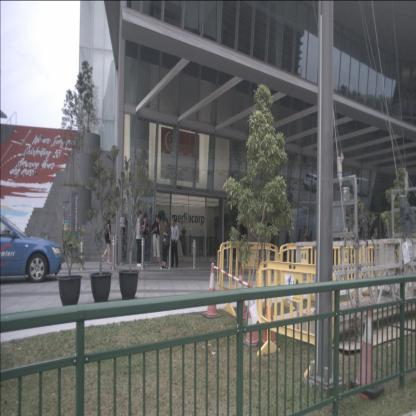human-pedestrian-adult: (101, 212, 112, 265), (160, 218, 171, 270), (151, 214, 162, 266), (136, 209, 145, 267), (170, 217, 179, 268), (141, 214, 149, 267), (302, 226, 309, 267)
movable_object-trafficcone: (351, 300, 385, 398), (243, 278, 261, 349), (260, 280, 278, 350), (202, 261, 223, 320), (235, 265, 249, 324)
vehicle-car: (0, 215, 63, 283), (304, 173, 324, 193), (354, 178, 370, 196)
